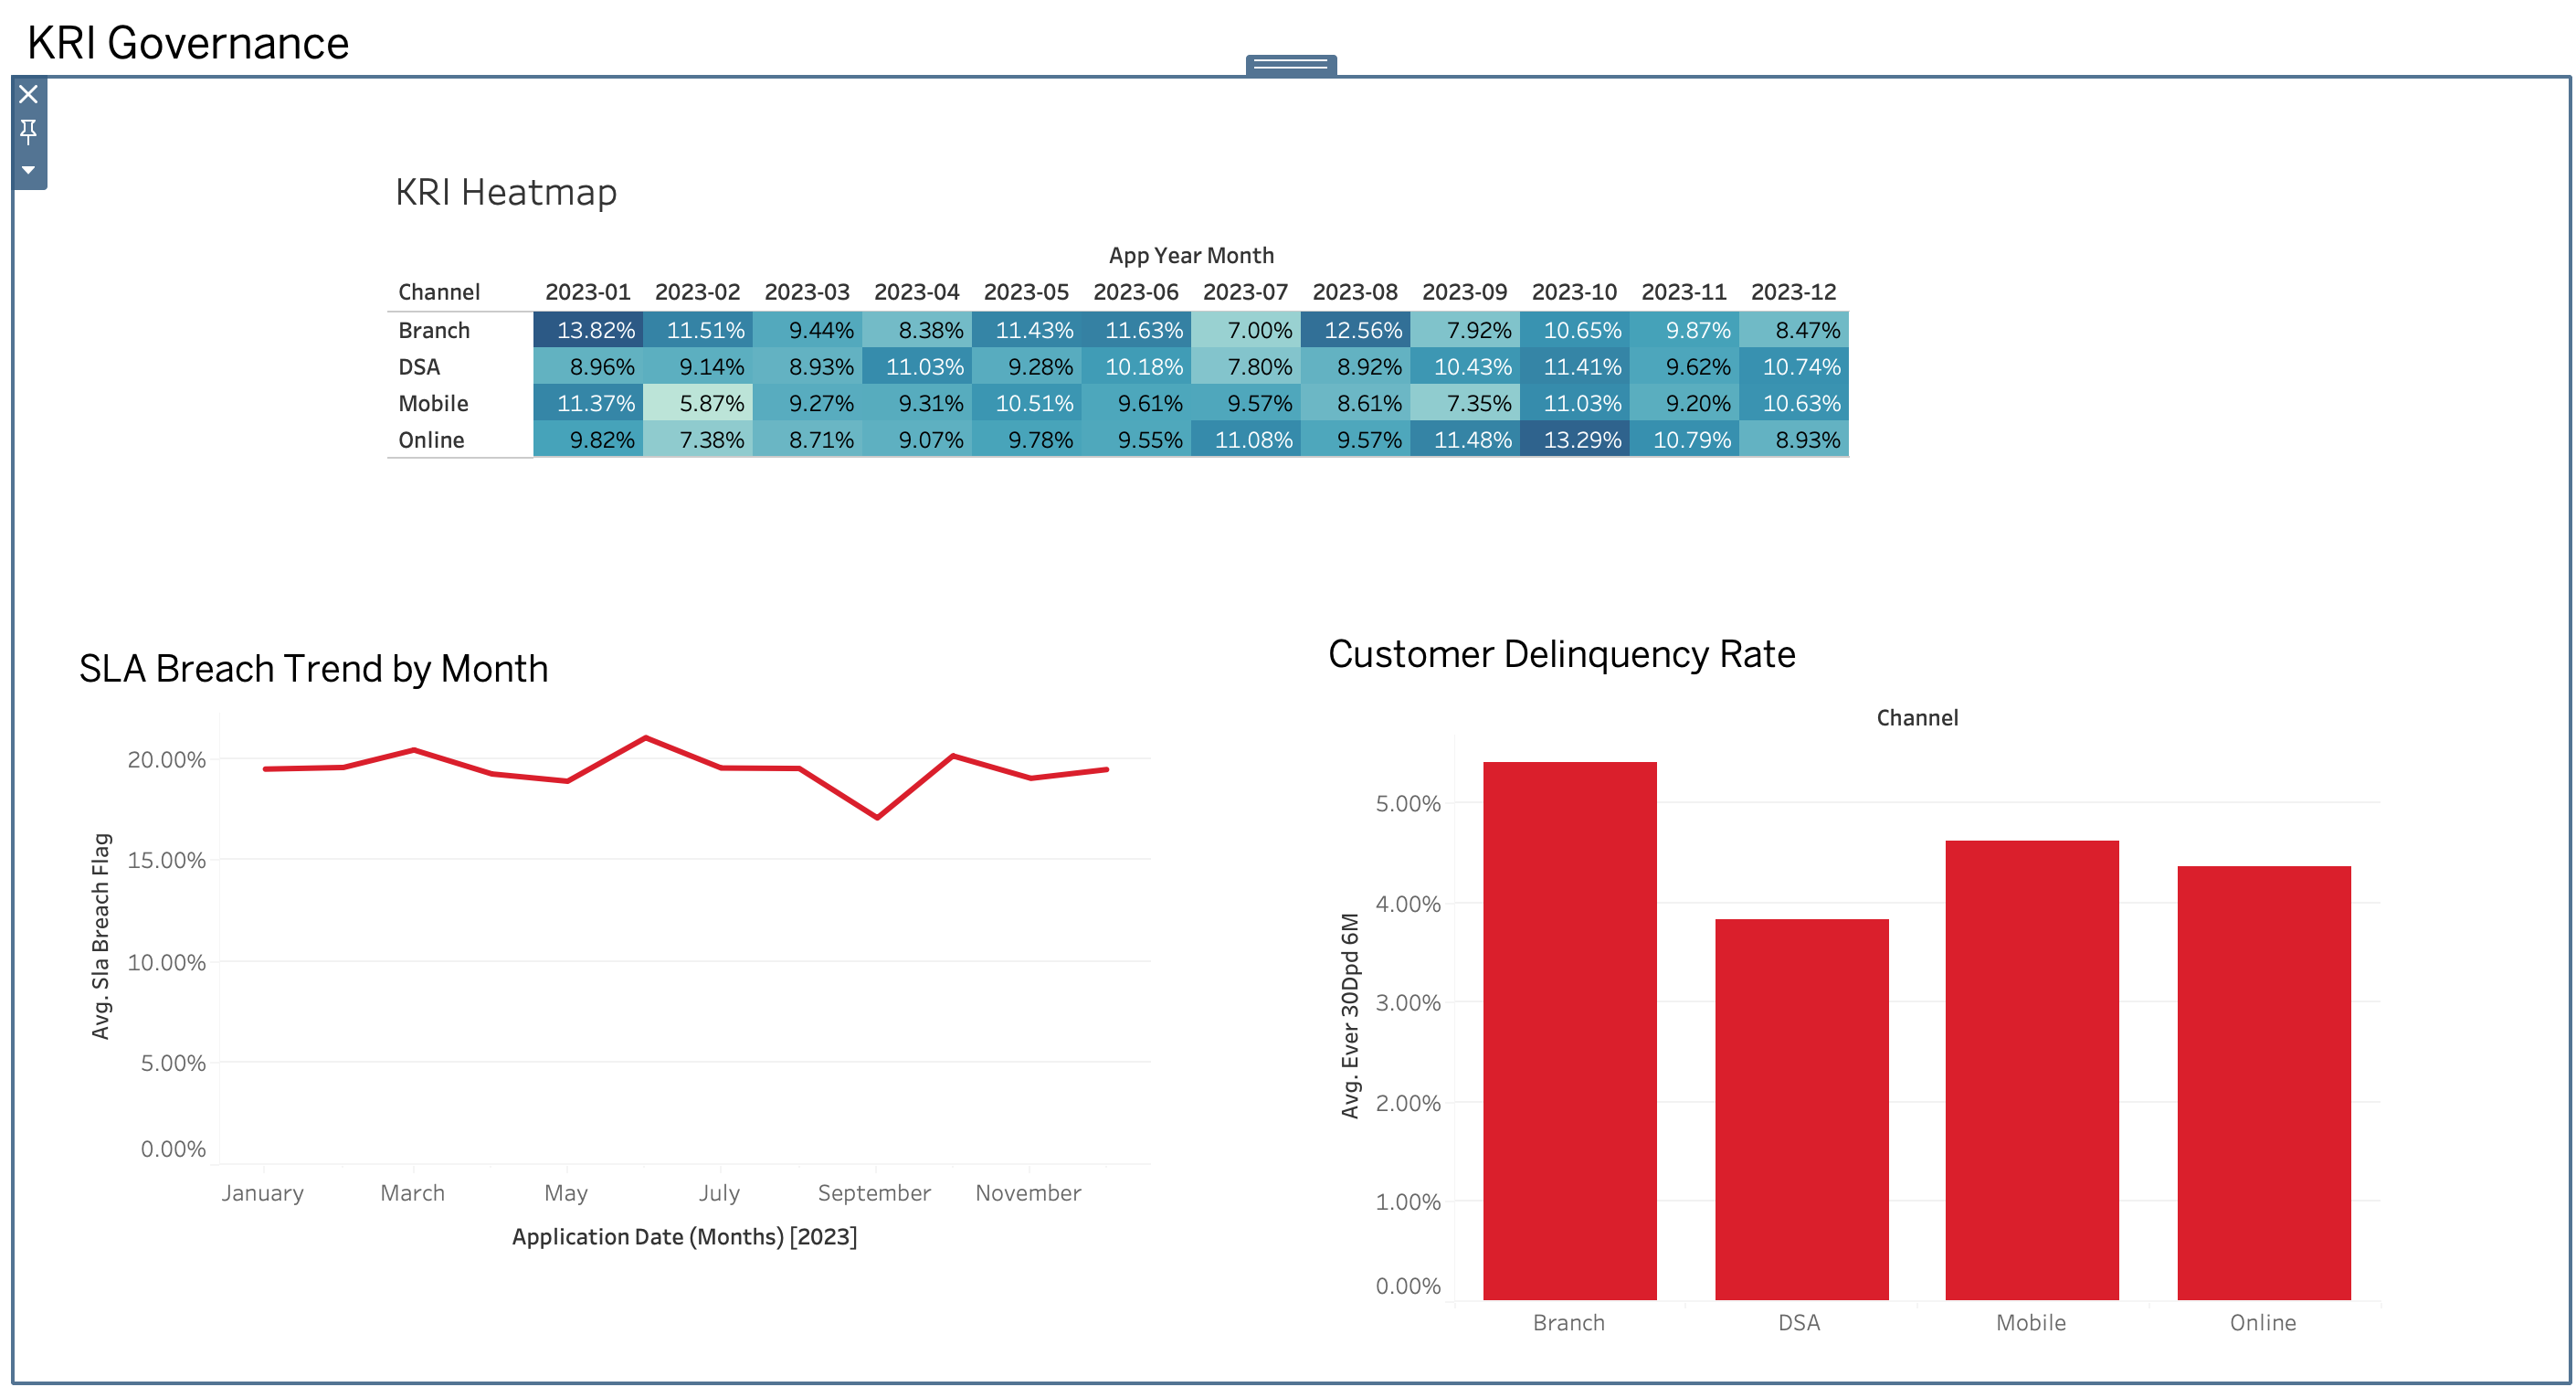

What the dashboard file says about the page in this screenshot:
{"tool":"tableau","page":{"name":"Dashboard 2","canvas":[1000,1000],"units":"permille","ordinal":1},"visuals":[{"type":"title","box":[5.7,10.4,988.7,50.8]},{"type":"worksheet","title":"Sheet 5","mark":"Square","rows":["channel"],"cols":["app_year_month"],"box":[149.7,117.7,662.3,339.4]},{"type":"worksheet","title":"Sheet 8","mark":"Bar","rows":["ever_30dpd_6m"],"cols":["channel"],"box":[499.6,449.5,424.7,530.6]},{"type":"worksheet","title":"Sheet 7","mark":"Automatic","rows":["sla_breach_flag"],"cols":["Application Date (Months)"],"box":[27.7,460.2,418.2,446.5]}]}

Visuals, with their boxes on the dashboard's canvas, which has no fixed pixel size, in thousandths of its width and height (x1, y1, x2, y2). These are canvas units, not pixel positions in the 2576x1387 screenshot, which may show the page scaled, cropped or inside an application window:
title: BBox(6, 10, 994, 61)
"Sheet 5" worksheet (Square marks): BBox(150, 118, 812, 457)
"Sheet 8" worksheet (Bar marks): BBox(500, 450, 924, 980)
"Sheet 7" worksheet: BBox(28, 460, 446, 907)
